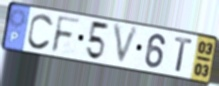5: (85, 19, 110, 62)
6: (144, 32, 167, 70)
C: (26, 12, 55, 52)
F: (49, 14, 83, 55)
T: (173, 35, 195, 74)
V: (111, 22, 142, 68)
